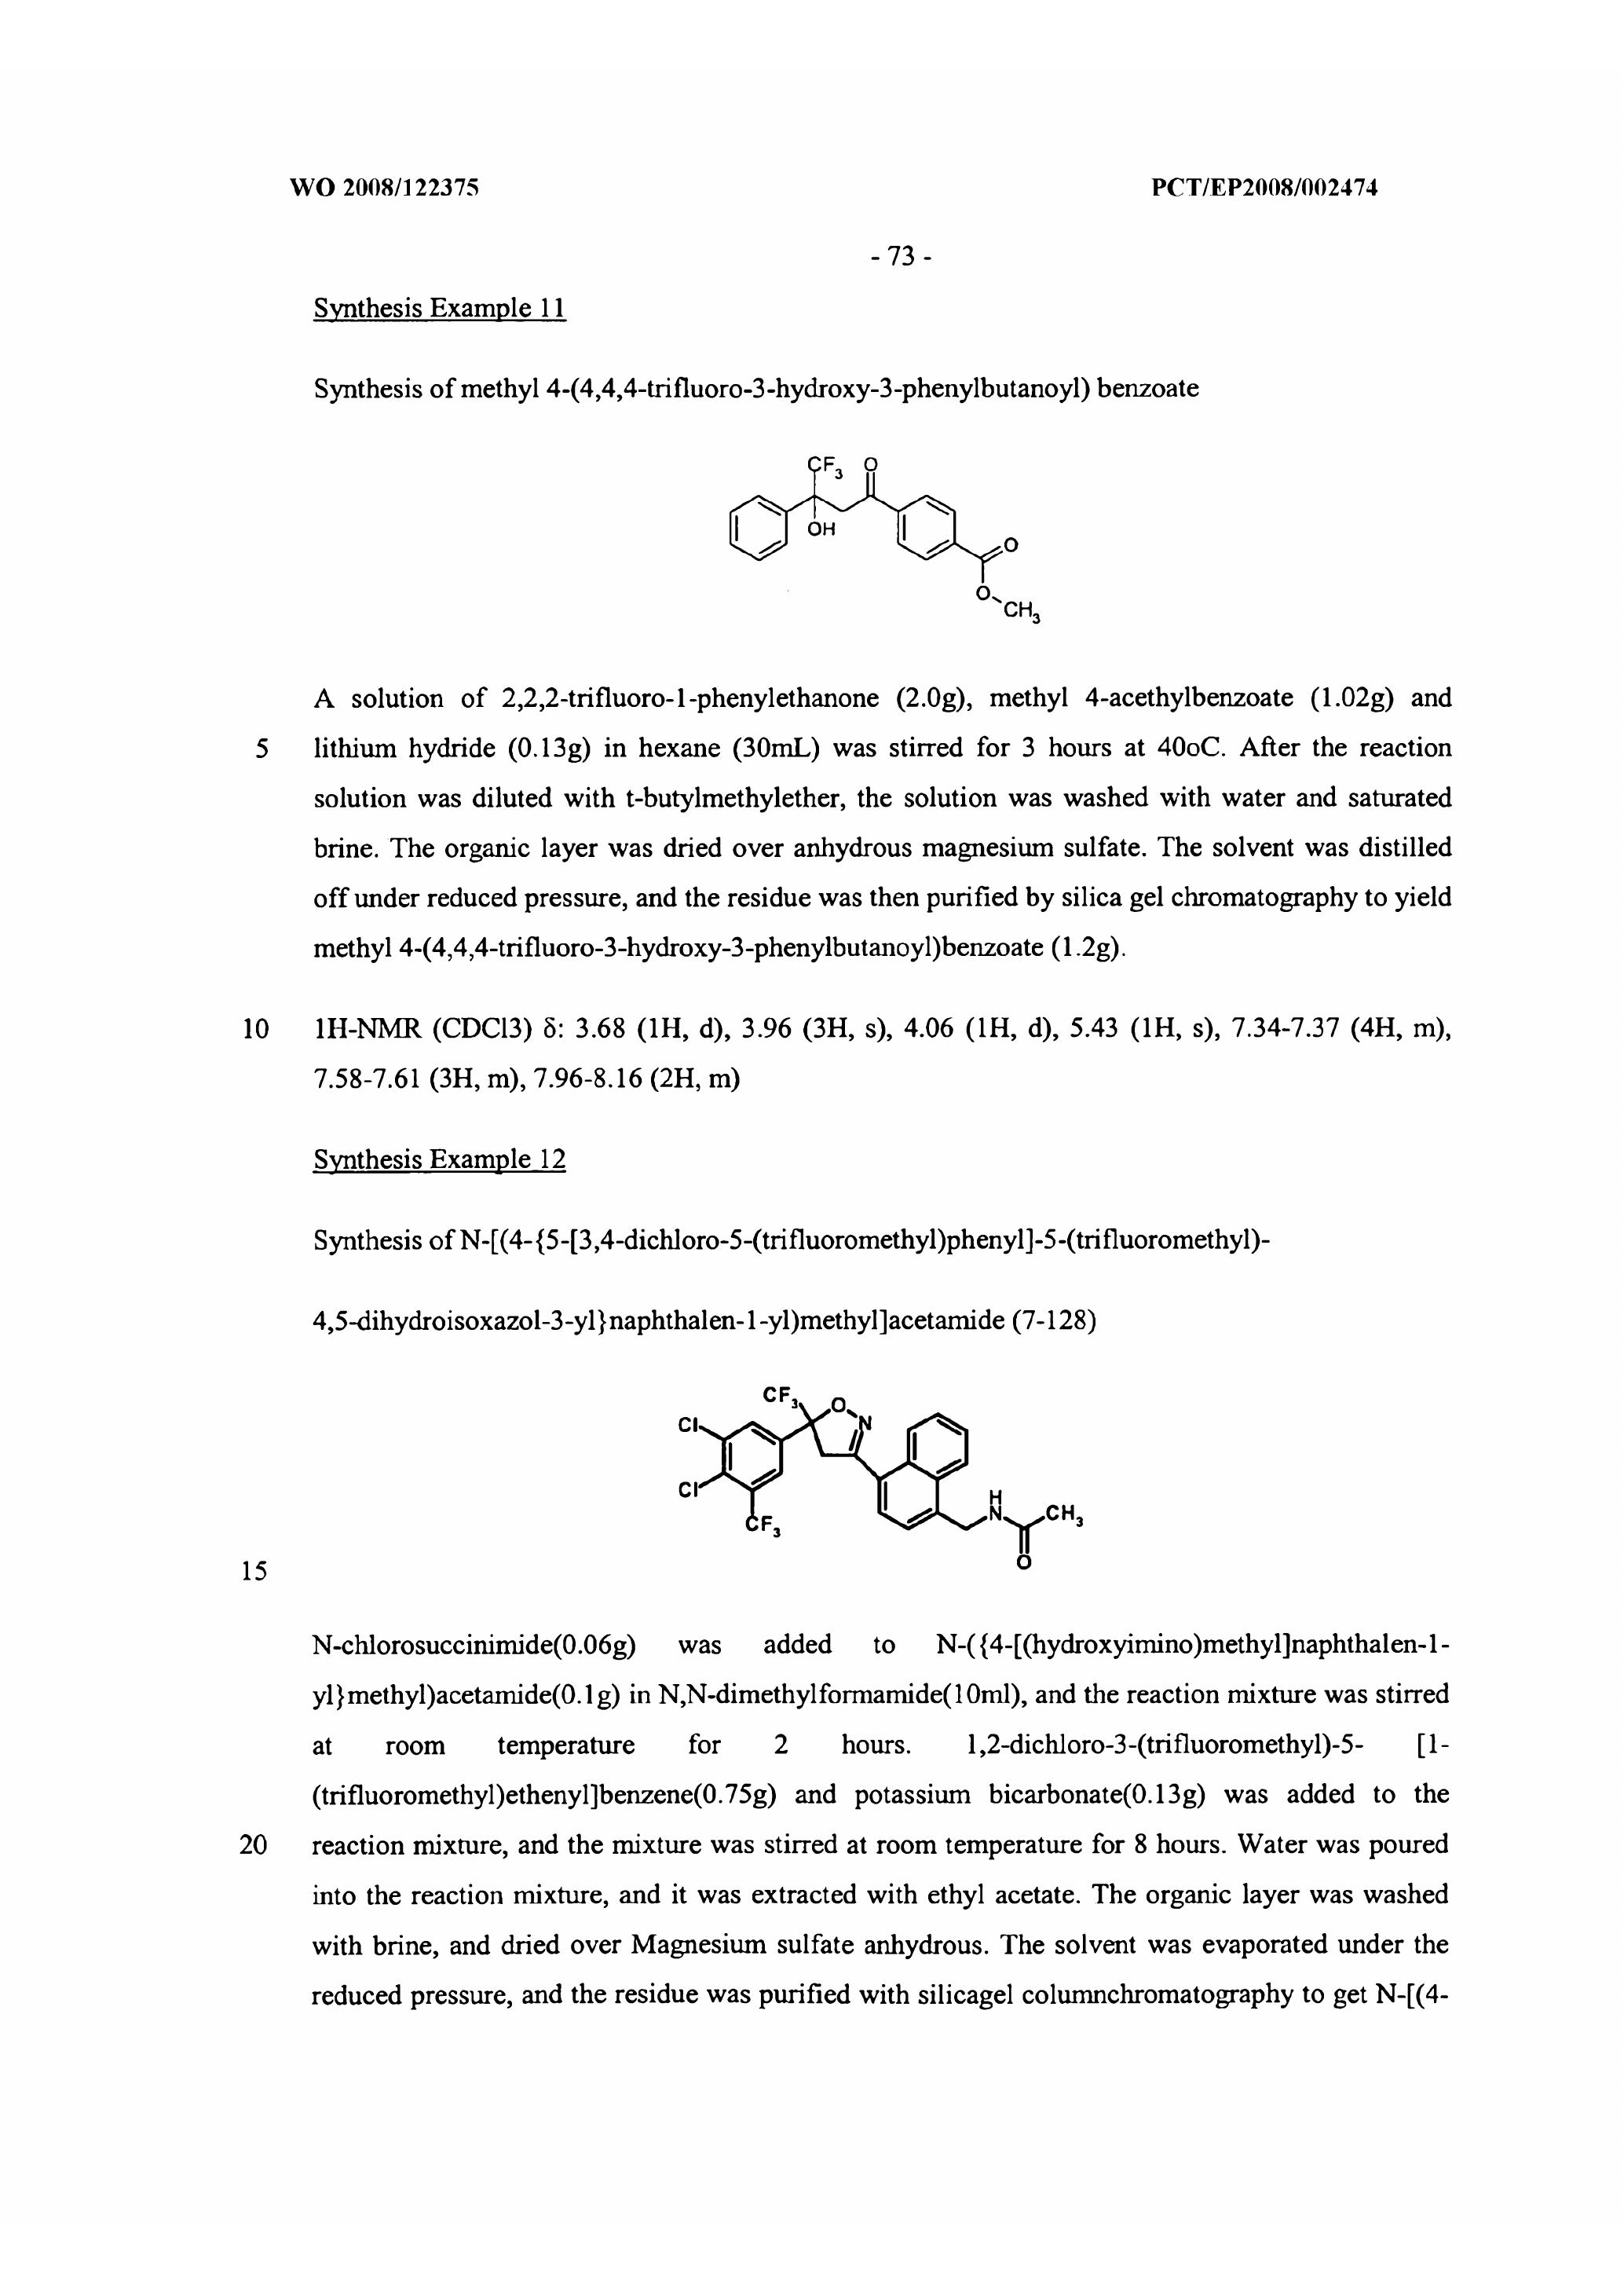intermediates: (708, 413, 1100, 656)
relevant-structures: (624, 1357, 1190, 1602)
